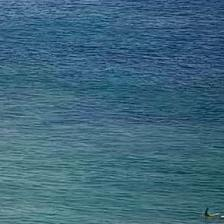surfer: (203, 208, 210, 216), (217, 213, 223, 222)
